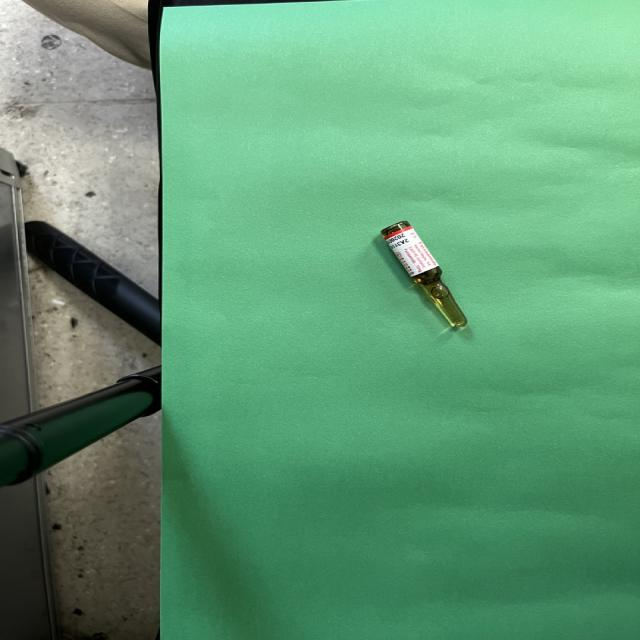Ampoules: (381, 220, 467, 328)
